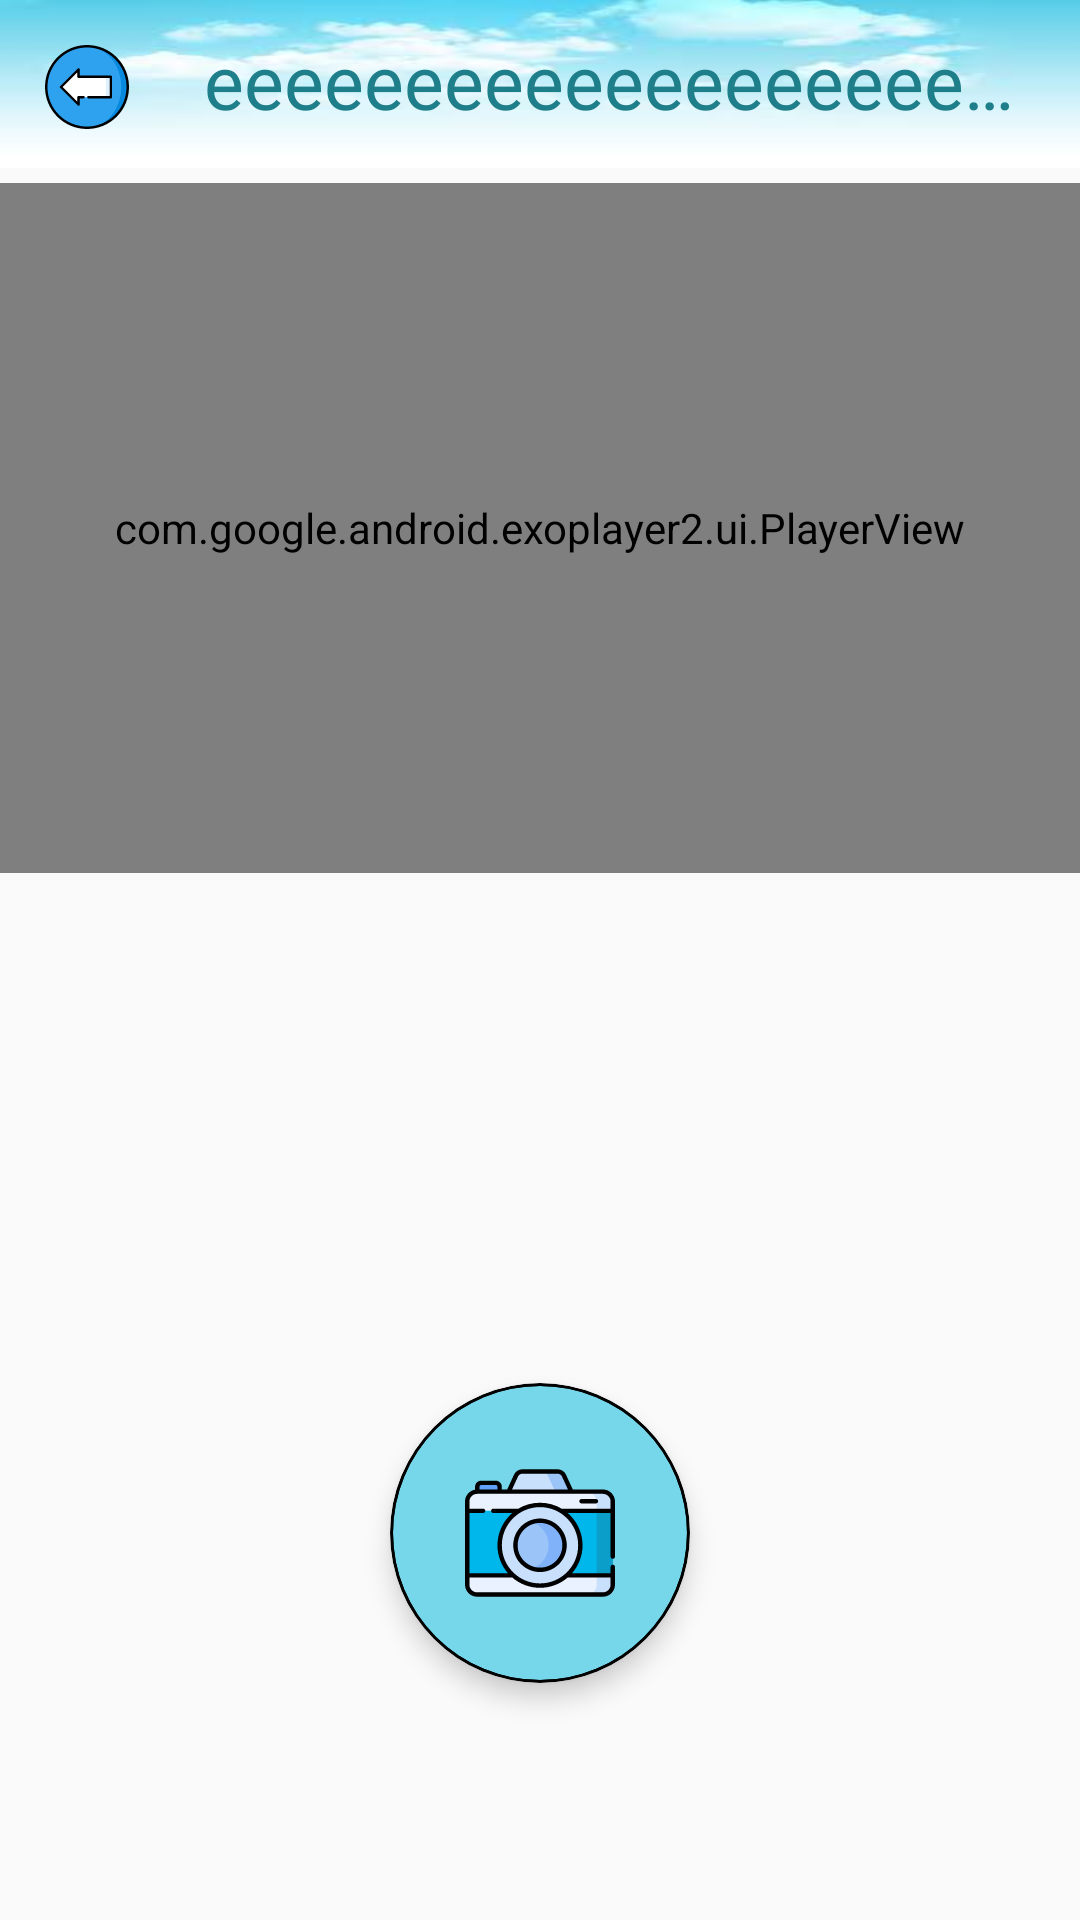

Named icons in this screenshot (1080x1920) and their centers, (x,y):
back arrow: (87,87)
photo camera: (540,1533)
